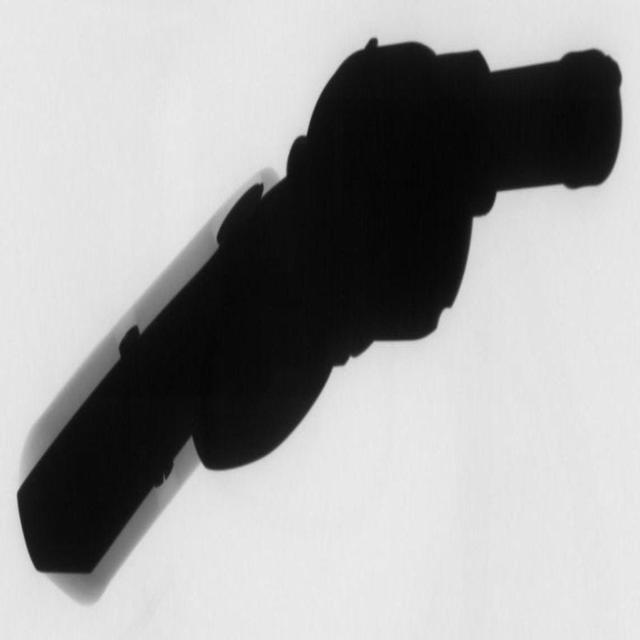gun: (12, 31, 620, 581)
